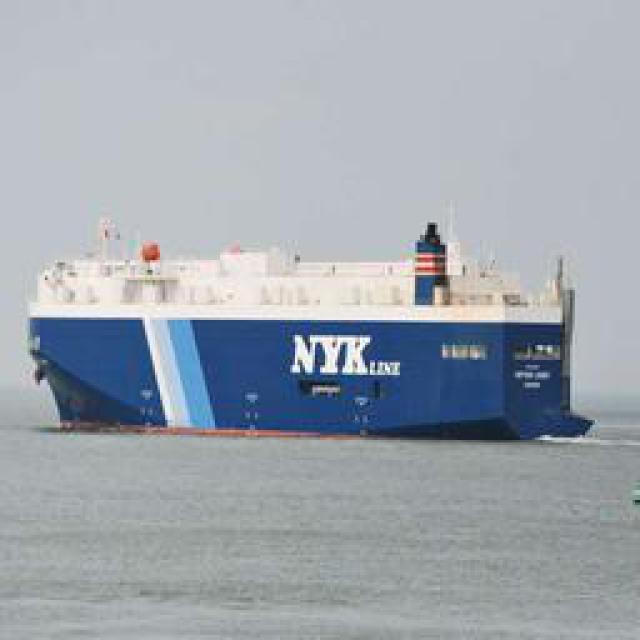Ship: (21, 217, 579, 440)
